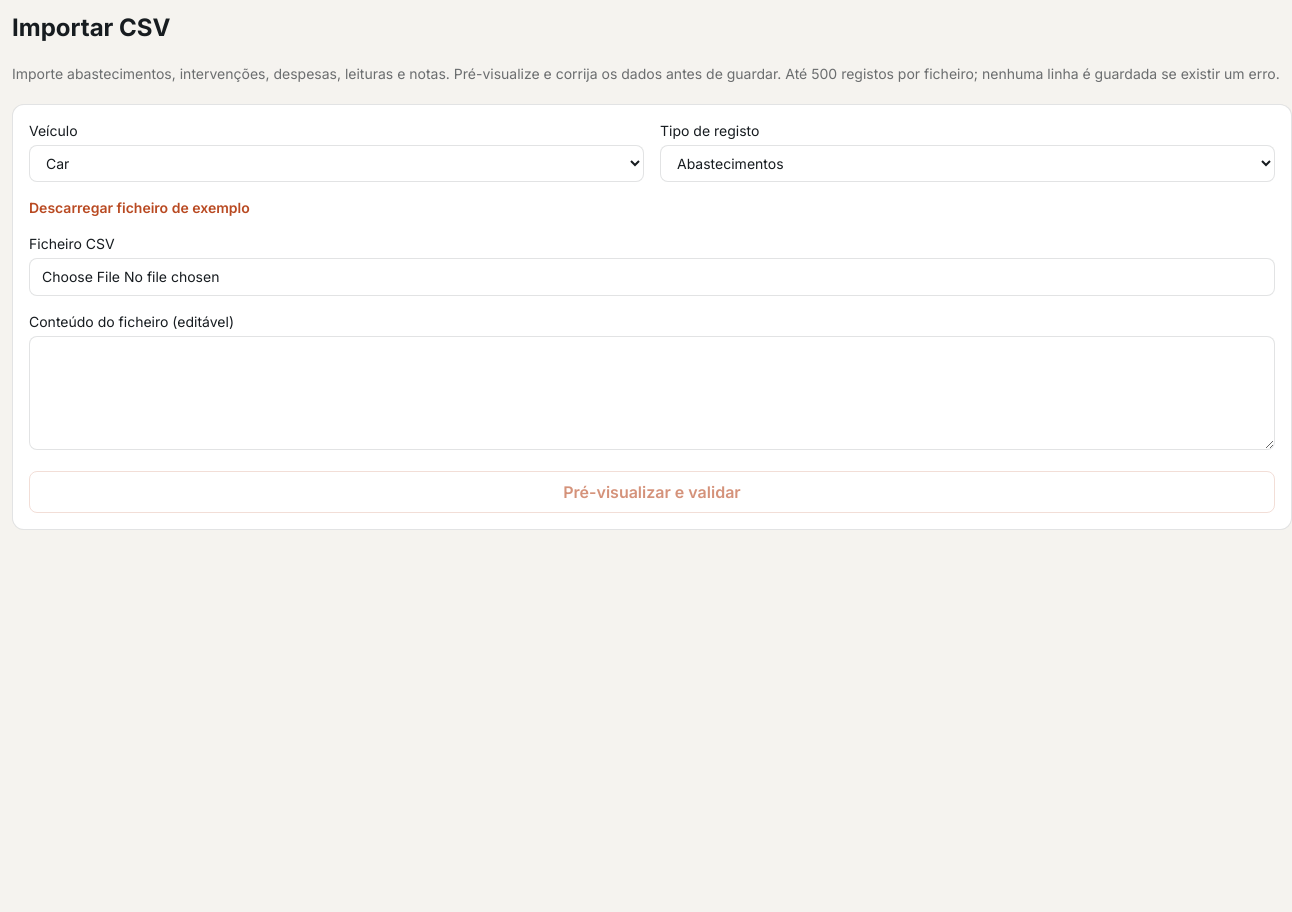
Scenario: ImportRecords › does not allow committing an invalid preview
This screenshot has width=1292, height=912.
Type "test" into the text box labelled "Conteúdo do ficheiro (editável)" at (652, 393), box [29, 336, 1275, 450]
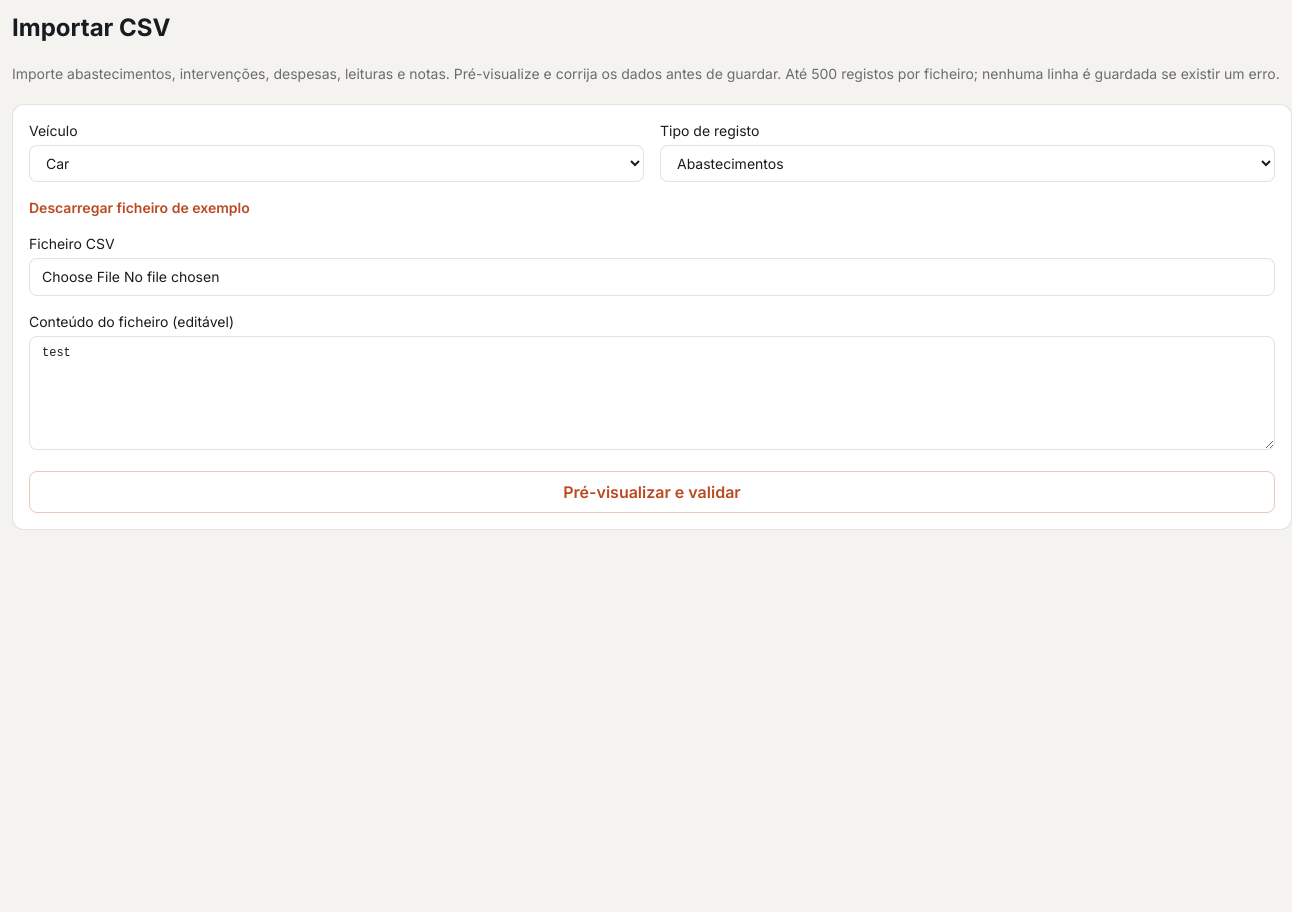
Click the button "Pré-visualizar e validar" at (652, 492), box [29, 471, 1275, 513]
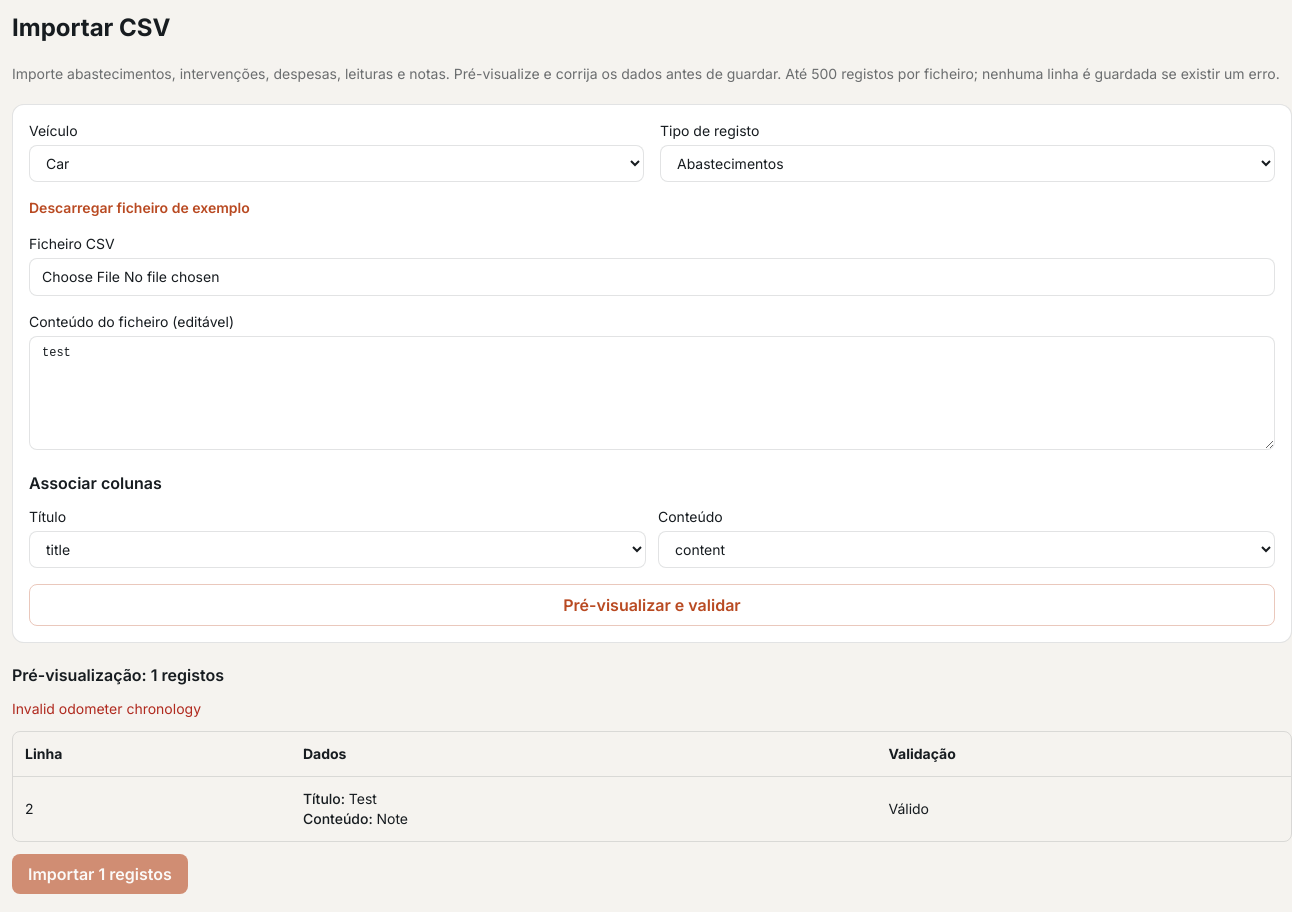
Now the button "Importar 1 registos" is disabled, box [12, 854, 188, 894]
